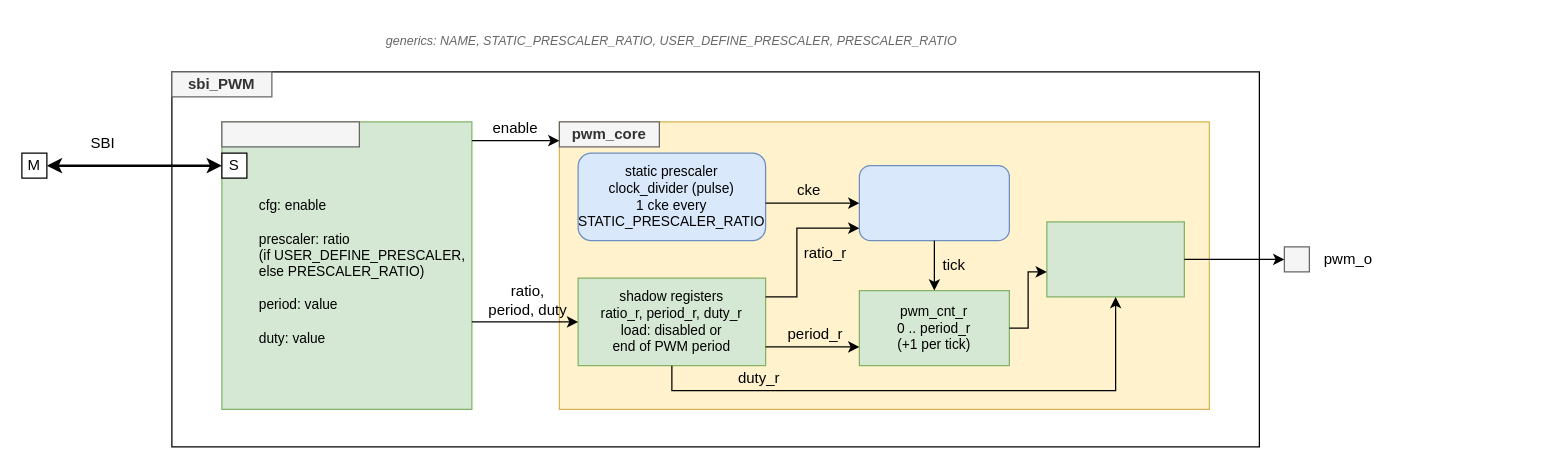
Image size: 1556x469. Some labels were removed from this diagram. Here are the shapes that lost their labels. From the top down, the centre of each, then its label:
the point at 290,134: PWM_registers
the point at 933,202: prescaler 1 tick every ratio_r+1 cke
the point at 1115,259: pwm_r pwm_cnt_r < duty_r (on cke)
